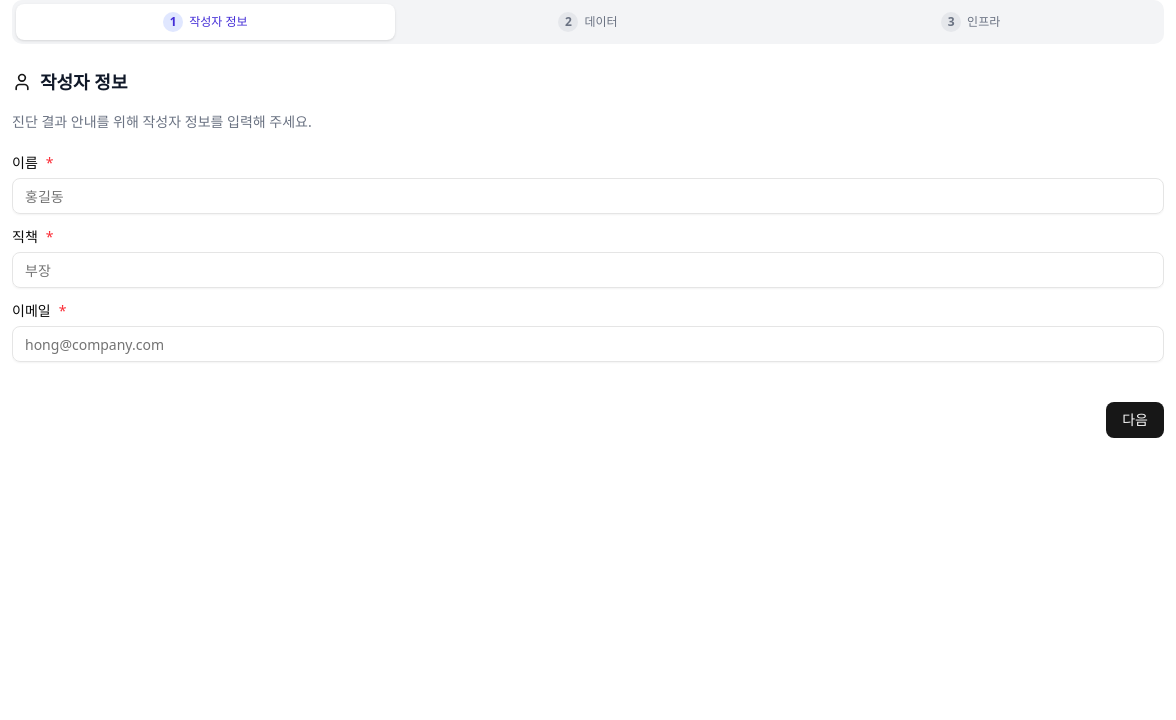
Test case: PublicSelfAssessmentForm › 작성자 정보 검증 › 모든 작성자 정보가 비어있으면 다중 에러가 표시된다
Click the button "다음": click(1135, 420) [1106, 402, 1164, 438]
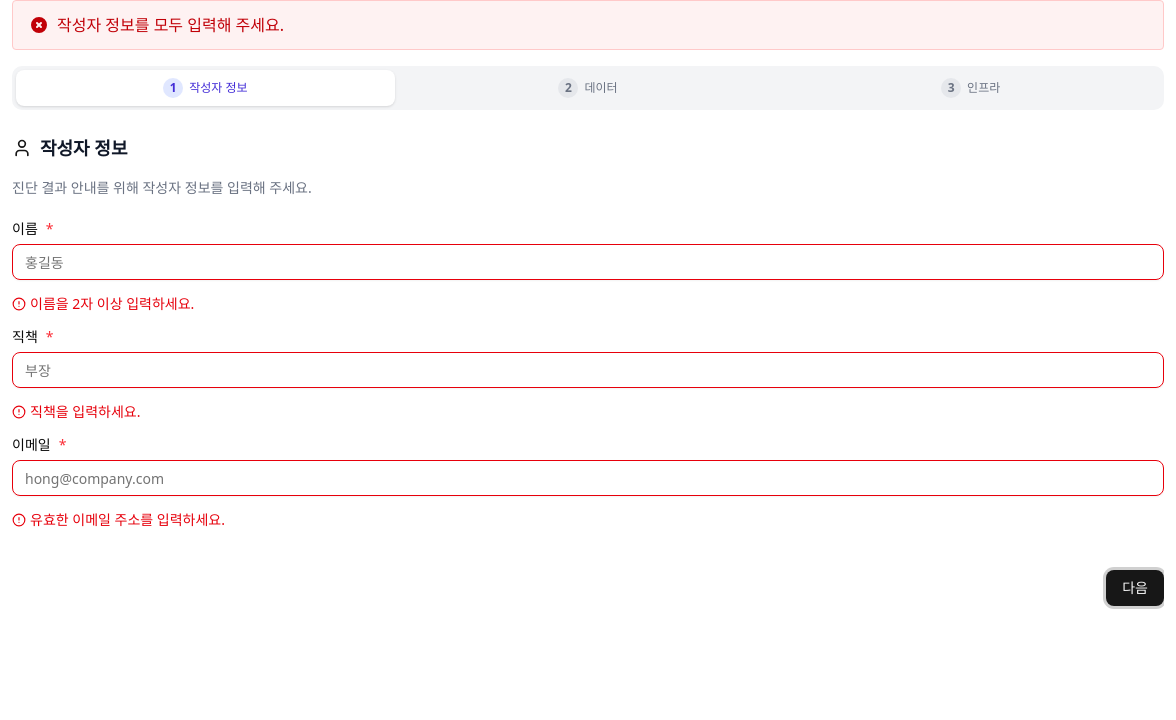
Expected: the text "이름을 2자 이상 입력하세요." is shown, [12, 294, 194, 313]
Expected: the text "직책을 입력하세요." is shown, [12, 402, 140, 421]
Expected: the text "유효한 이메일 주소를 입력하세요." is shown, [12, 510, 225, 529]
